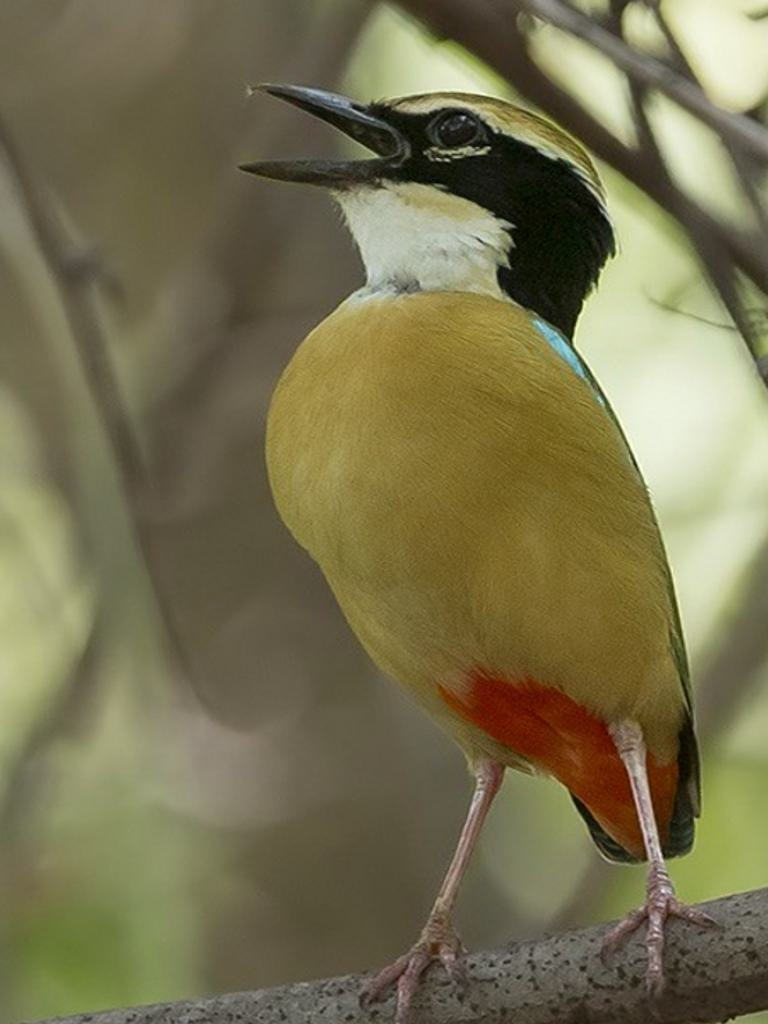pitta: (214, 42, 768, 922)
